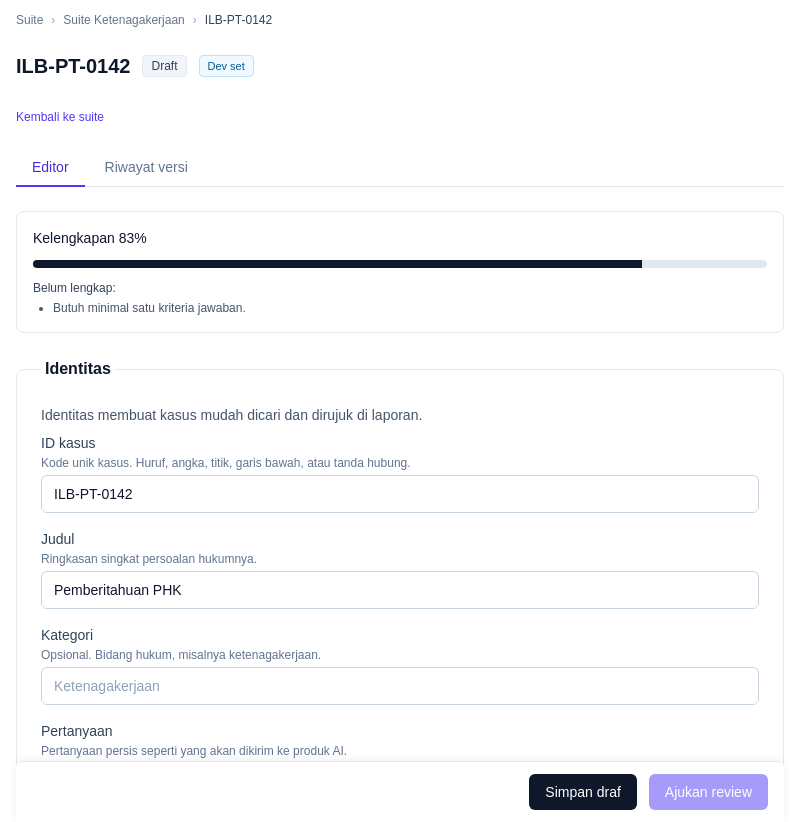
Test case: EditCasePage version history tab (SCRUM-138) › opens the version history from the tab
expect the heading "ILB-PT-0142" is shown: met, box [16,52,130,80]
Step 1. Click the tab "Riwayat versi" → (146, 168), box [89,149,204,187]
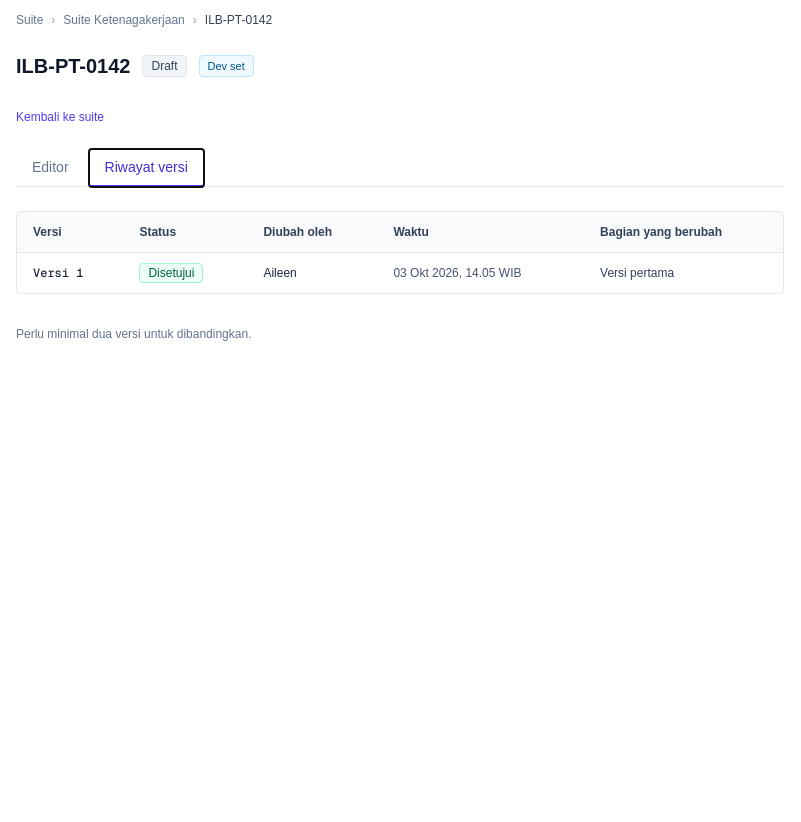
expect the row "Versi 1" is shown: met, box [17,253,783,293]
